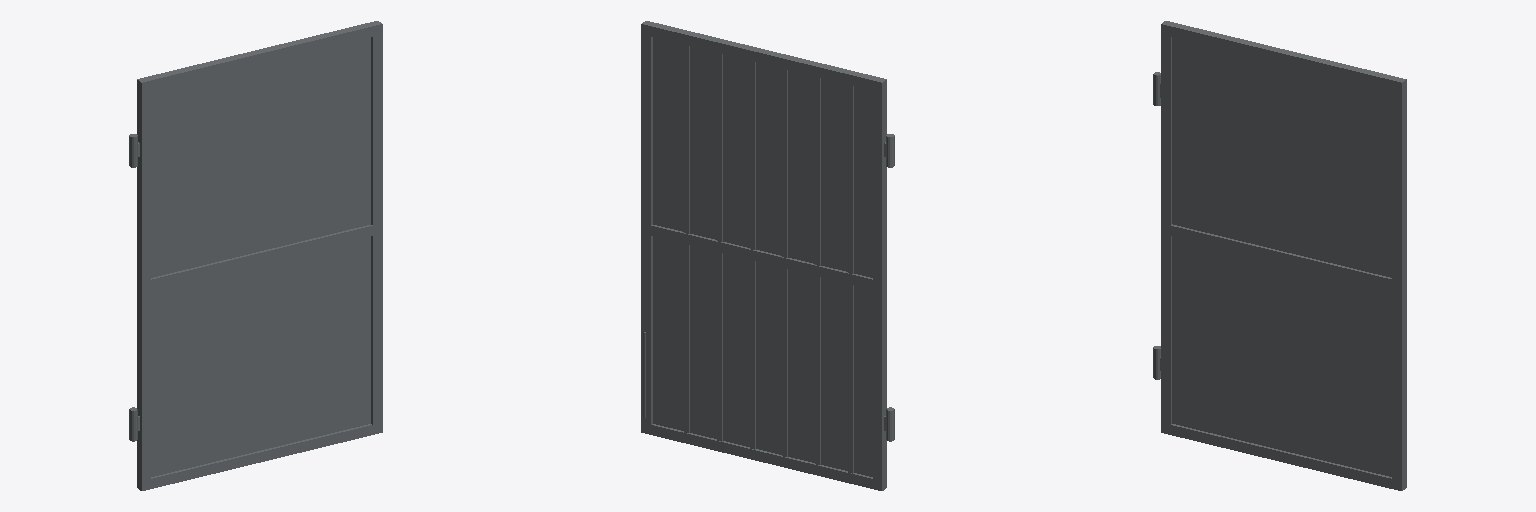
robot.urdf — nova_environment_object_0118:
<?xml version="1.0" encoding="utf-8"?>
<!-- Nova movable environment body for the bundled PyBullet launcher. SI metres/kg/radians. Loaded at its body origin; hinge/slider bodies use a fixed world_anchor base with one passive joint. Inertia is about COM. -->
<robot name="nova_environment_object_0118">
  <link name="world_anchor">
    <inertial>
      <mass value="0" />
      <inertia ixx="0" iyy="0" izz="0" ixy="0" ixz="0" iyz="0" />
    </inertial>
  </link>
  <joint name="joint" type="revolute">
    <parent link="world_anchor" />
    <child link="body" />
    <origin xyz="0 0 0" rpy="0 0 0" />
    <axis xyz="0 0 1" />
    <limit lower="0" upper="1.4" effort="1000" velocity="10" />
    <dynamics damping="4" friction="2" />
  </joint>
  <link name="body">
    <inertial>
      <origin xyz="0.772 0 0" rpy="0 0 0" />
      <mass value="95" />
      <inertia ixx="45.2405833" iyy="62.4211433" izz="17.2201433" ixy="0" ixz="0" iyz="0" />
    </inertial>
    <visual>
      <origin xyz="0 0 0" rpy="0 0 0" />
      <geometry>
        <mesh filename="object_0118.obj" />
      </geometry>
      <material name="surface">
        <color rgba="0.47 0.49 0.5 1" />
      </material>
    </visual>
    <collision>
      <origin xyz="0 0 0" rpy="0 0 0" />
      <geometry>
        <mesh filename="object_0118_auto_00.obj" />
      </geometry>
    </collision>
    <collision>
      <origin xyz="0 0 0" rpy="0 0 0" />
      <geometry>
        <mesh filename="object_0118_auto_01.obj" />
      </geometry>
    </collision>
    <collision>
      <origin xyz="0 0 0" rpy="0 0 0" />
      <geometry>
        <mesh filename="object_0118_auto_02.obj" />
      </geometry>
    </collision>
    <collision>
      <origin xyz="0 0 0" rpy="0 0 0" />
      <geometry>
        <mesh filename="object_0118_auto_03.obj" />
      </geometry>
    </collision>
    <collision>
      <origin xyz="0 0 0" rpy="0 0 0" />
      <geometry>
        <mesh filename="object_0118_auto_04.obj" />
      </geometry>
    </collision>
    <collision>
      <origin xyz="0 0 0" rpy="0 0 0" />
      <geometry>
        <mesh filename="object_0118_auto_05.obj" />
      </geometry>
    </collision>
    <collision>
      <origin xyz="0 0 0" rpy="0 0 0" />
      <geometry>
        <mesh filename="object_0118_auto_06.obj" />
      </geometry>
    </collision>
    <collision>
      <origin xyz="0 0 0" rpy="0 0 0" />
      <geometry>
        <mesh filename="object_0118_auto_07.obj" />
      </geometry>
    </collision>
    <collision>
      <origin xyz="0 0 0" rpy="0 0 0" />
      <geometry>
        <mesh filename="object_0118_auto_08.obj" />
      </geometry>
    </collision>
    <collision>
      <origin xyz="0 0 0" rpy="0 0 0" />
      <geometry>
        <mesh filename="object_0118_auto_09.obj" />
      </geometry>
    </collision>
    <collision>
      <origin xyz="0 0 0" rpy="0 0 0" />
      <geometry>
        <mesh filename="object_0118_auto_10.obj" />
      </geometry>
    </collision>
    <collision>
      <origin xyz="0 0 0" rpy="0 0 0" />
      <geometry>
        <mesh filename="object_0118_auto_11.obj" />
      </geometry>
    </collision>
    <collision>
      <origin xyz="0 0 0" rpy="0 0 0" />
      <geometry>
        <mesh filename="object_0118_auto_12.obj" />
      </geometry>
    </collision>
    <collision>
      <origin xyz="0 0 0" rpy="0 0 0" />
      <geometry>
        <mesh filename="object_0118_auto_13.obj" />
      </geometry>
    </collision>
    <collision>
      <origin xyz="0 0 0" rpy="0 0 0" />
      <geometry>
        <mesh filename="object_0118_auto_14.obj" />
      </geometry>
    </collision>
  </link>
</robot>

--- Render facts (derived) ---
Views: 3 orthographic renders of the robot side by side, from view 1: azimuth 30°, elevation 25°; view 2: azimuth 150°, elevation 25°; view 3: azimuth 330°, elevation 25°.
Model nova_environment_object_0118 with 2 links and 1 joints (1 revolute), rooted at world_anchor, posed all joints at 0.
Links seen in each view (by area): view 1: body; view 2: body; view 3: body.
Link boxes in pixels (x1=…): body: x1=129, y1=21, x2=382, y2=490; body: x1=641, y1=21, x2=894, y2=490; body: x1=1153, y1=21, x2=1406, y2=490.
Size in the robot's own frame: 1.53 by 0.0726 by 2.39 metres.
Meshes: 1 distinct files referenced, 1 mesh visuals loaded (1 OBJ).
